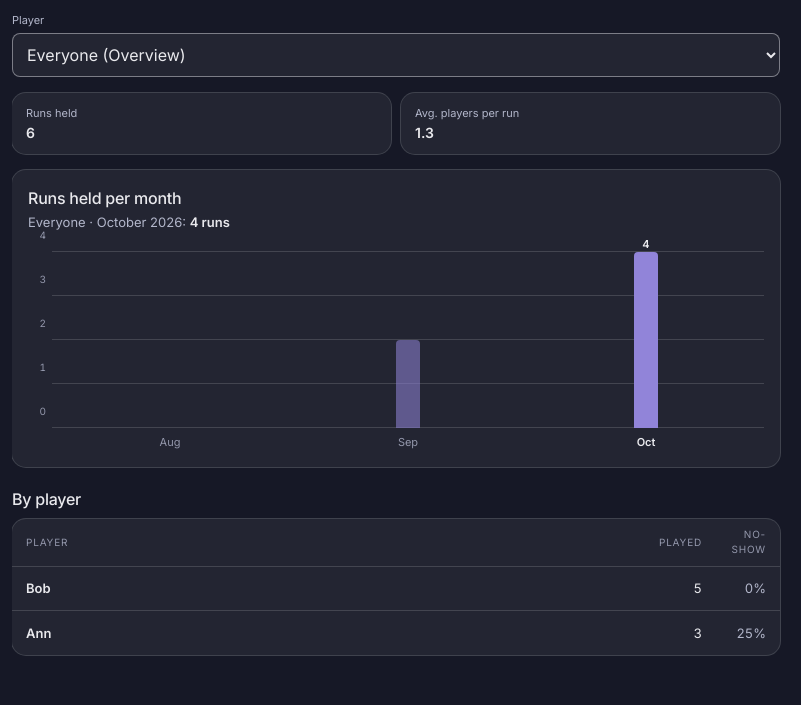
Test: StatsView player › switches the chart between played and no-shows
This screenshot has width=801, height=705.
Step 1. Select "Ann" in the dropdown → coordinates (396, 55), box [12, 33, 780, 77]
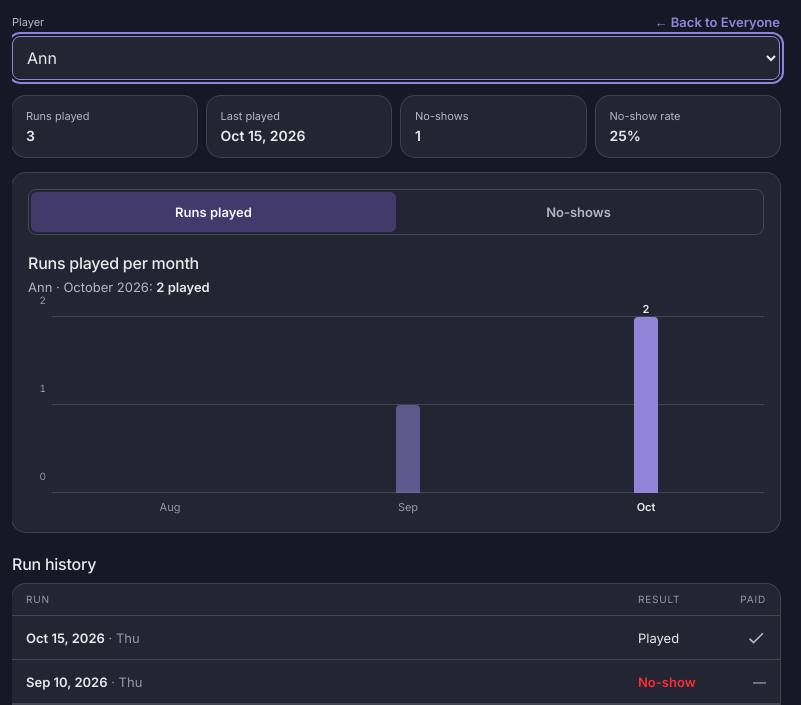
Check: the text "Ann · October 2026: 2 played" is shown, box [28, 279, 210, 295]
Step 2. Click the tab "No-shows" → coordinates (578, 212), box [396, 192, 761, 232]
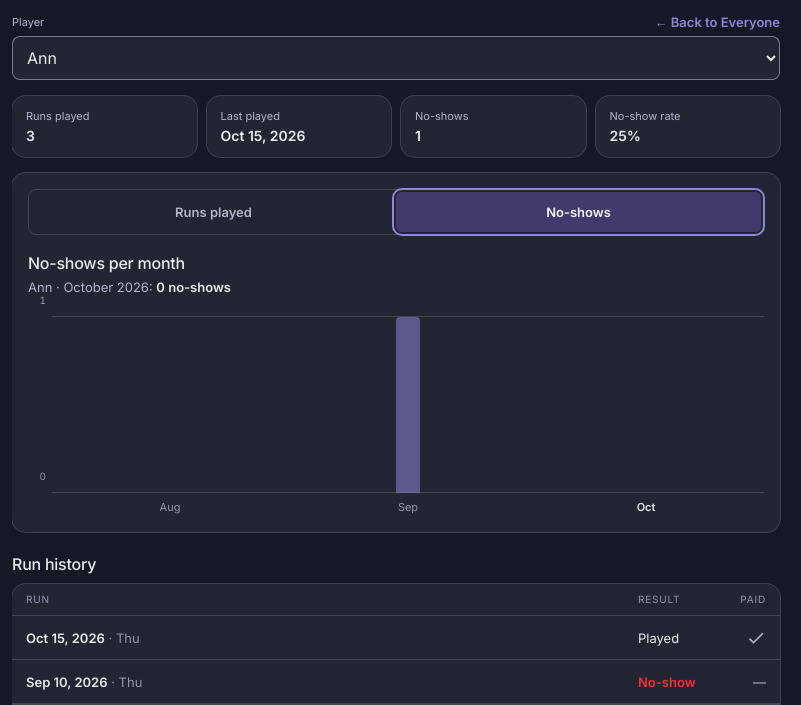
Step 3. Click the button named "September 2026: 1 no-shows" → coordinates (408, 405), box [290, 317, 526, 493]
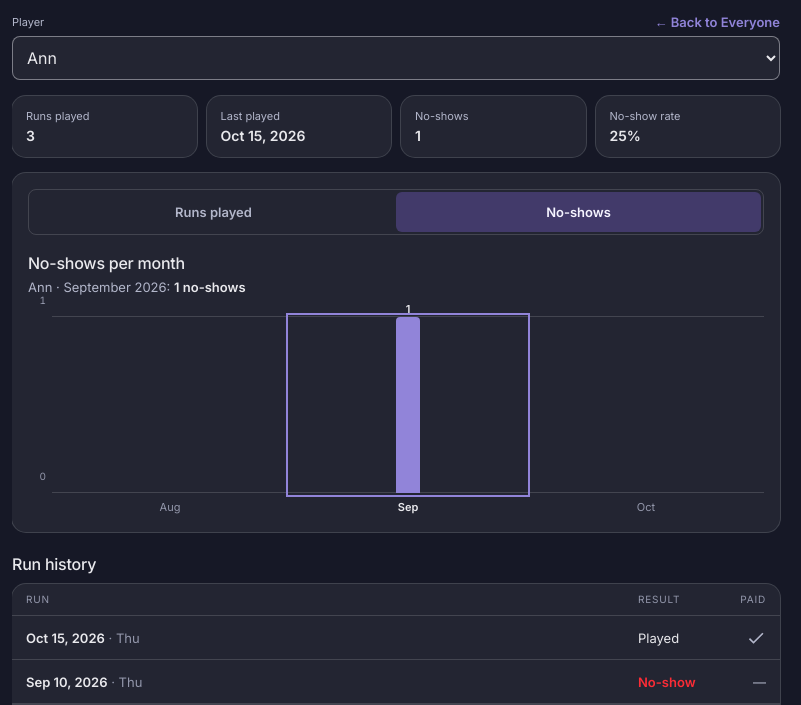
Check: the text "Ann · September 2026: 1 no-shows" is shown, box [28, 279, 246, 295]
